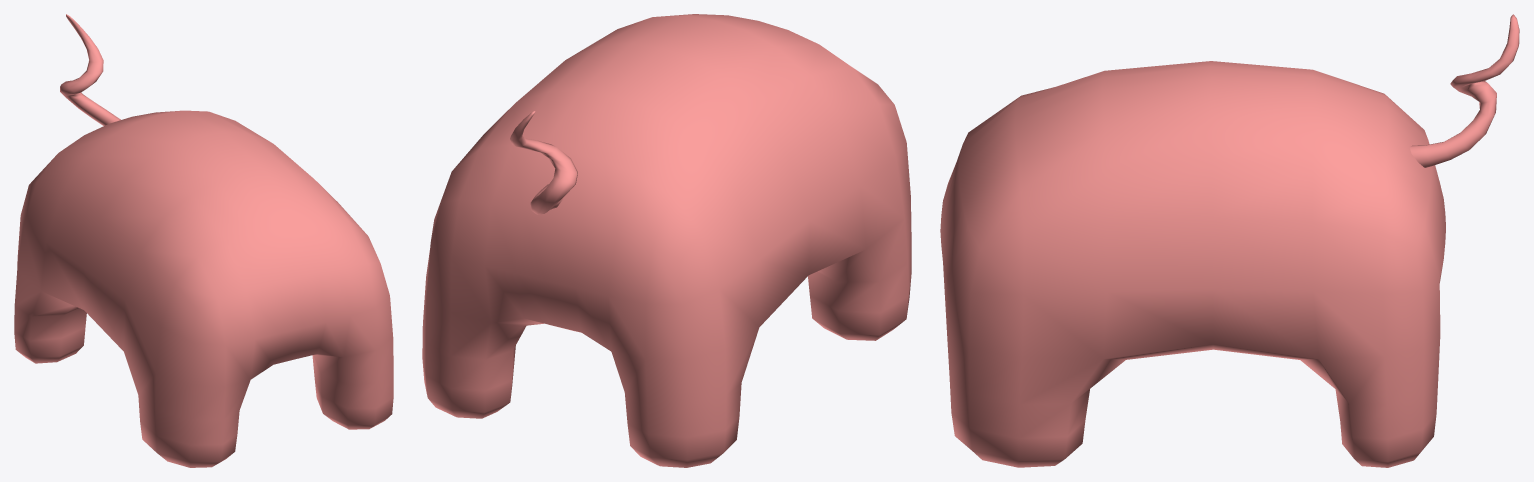
File: pigbody.fbx
The picture shows the model from 3 angles, left to right: view 1: azimuth 30°, elevation 25°; view 2: azimuth 150°, elevation 25°; view 3: azimuth 270°, elevation 25°; orthographic projection. The views are drawn at different scales.
Visible parts, largest first — view 1: pig_body; view 2: pig_body; view 3: pig_body.
Part boxes in pixels (<box>): pig_body: <box>14,14,393,467</box>; pig_body: <box>422,14,911,467</box>; pig_body: <box>940,14,1519,467</box>.
Size of the model in its own units: 37.53 by 44.32 by 61.34.
